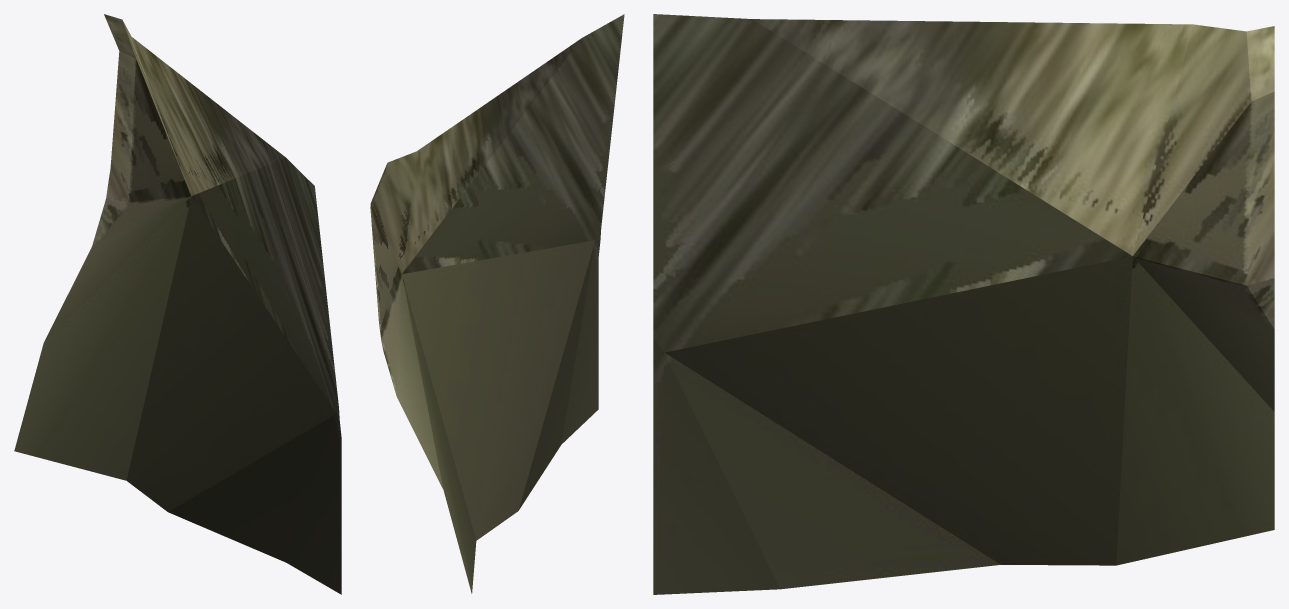
The picture shows the model from 3 angles, left to right: view 1: azimuth 30°, elevation 25°; view 2: azimuth 150°, elevation 25°; view 3: azimuth 270°, elevation 25°; orthographic projection. The views are drawn at different scales.
Size of the model in its own units: 0.9279 by 2.95 by 2.95.
3 materials, 3 textured.
